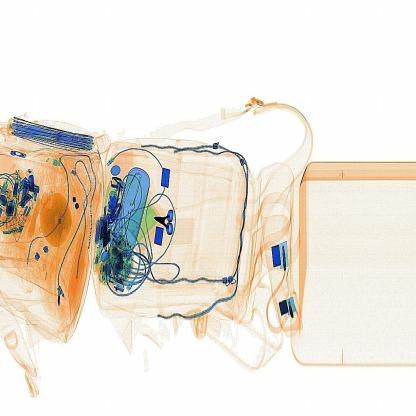gun: (152, 202, 182, 240)
